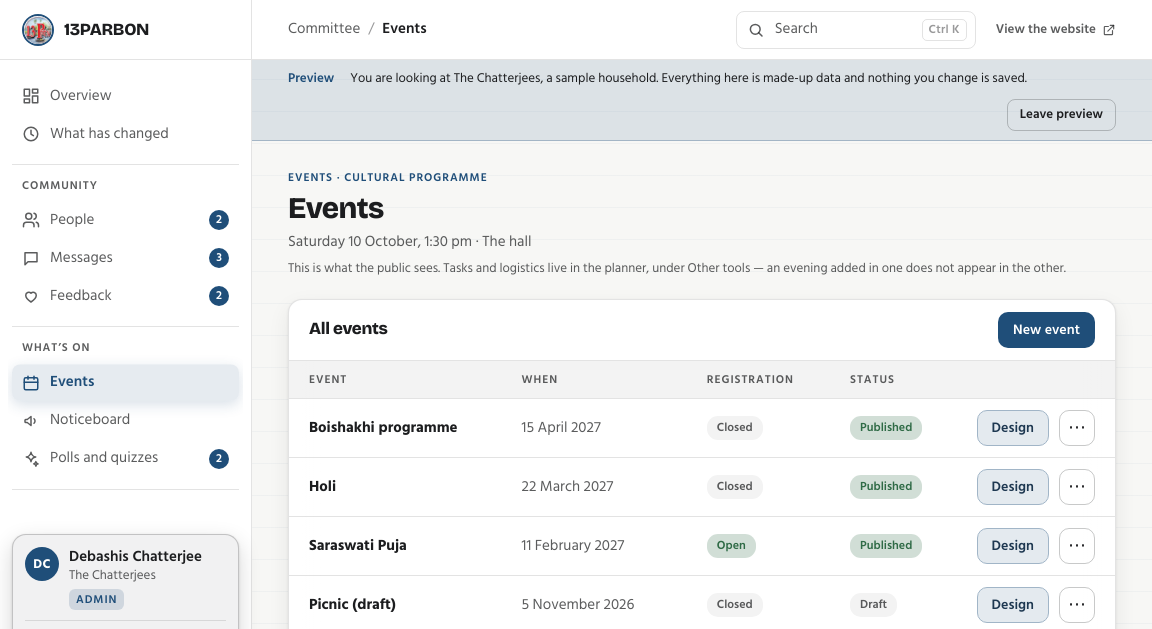
adding an evening › opens a blank designer from the events page
Click the button "New event" at (1046,330), box x1=998 y1=312 x2=1095 y2=348
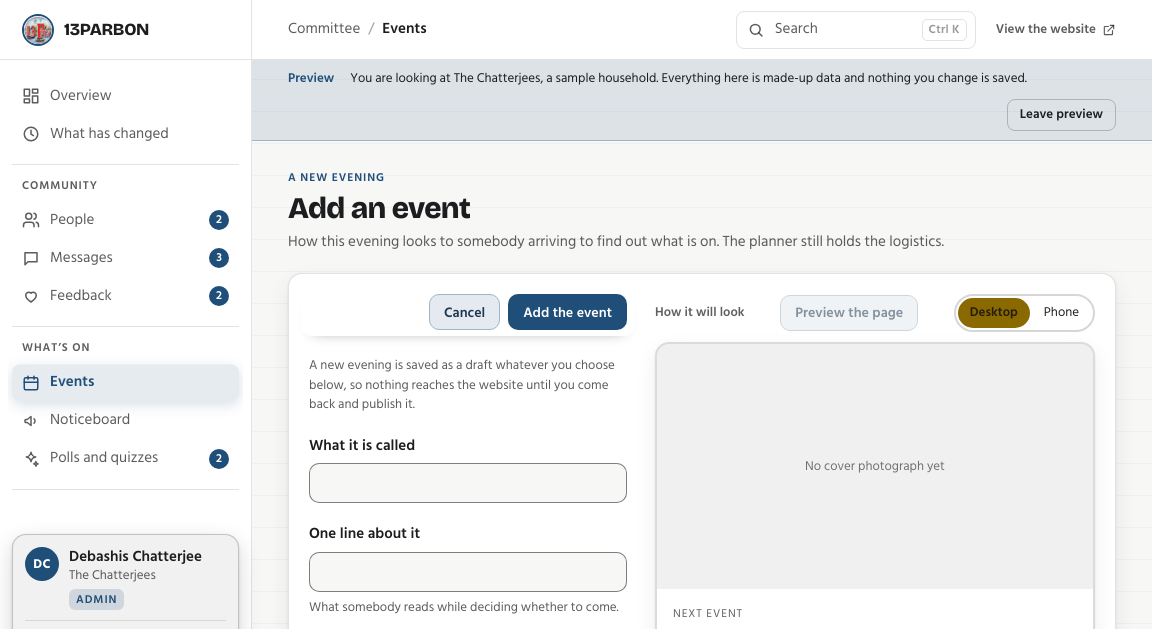
Result: the heading "Add an event" is shown at x1=288 y1=190 x2=470 y2=226
Result: the field labelled "What it is called" is empty at x1=309 y1=463 x2=627 y2=503
Result: the button "Add the event" is shown at x1=508 y1=294 x2=627 y2=330
